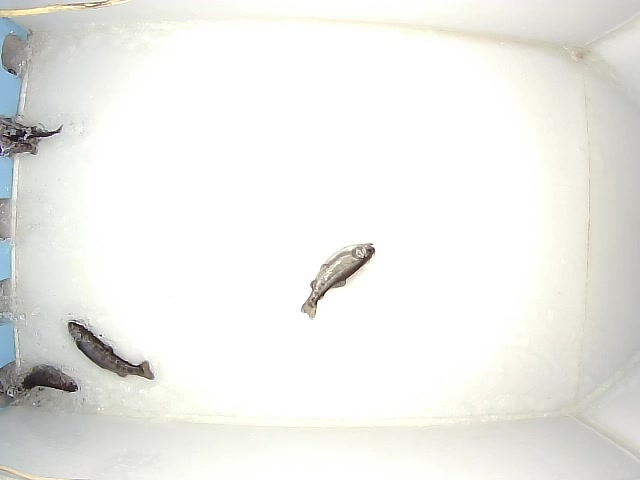fish: (299, 241, 376, 320), (69, 315, 157, 383), (17, 360, 81, 392)
